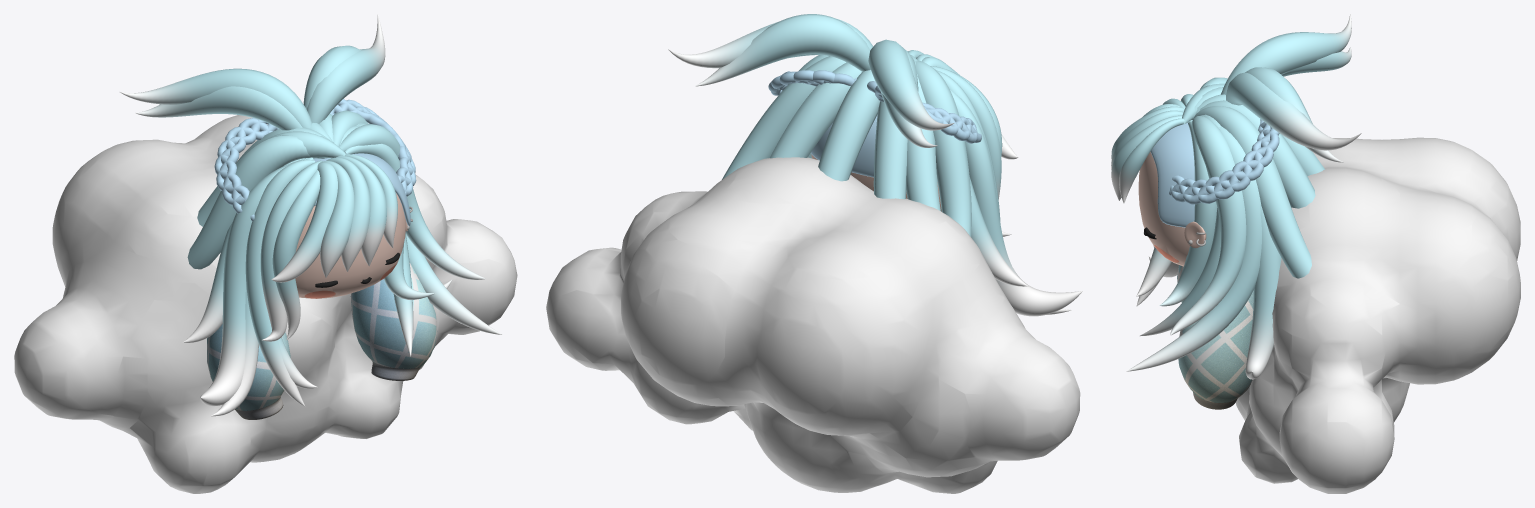
The model's file is kobo tidur di atas awan.fbx.
3 renders of one model, left to right at view 1: azimuth 30°, elevation 25°; view 2: azimuth 150°, elevation 25°; view 3: azimuth 270°, elevation 25°, orthographic. The views are drawn at different scales.
Parts seen in each view (by area): view 1: Mball, Cylinder.001, NurbsPath.020, NurbsPath.022, NurbsPath.018, Vert.001, NurbsPath.027, Cube, NurbsPath.028, NurbsPath.009, NurbsPath.029, NurbsPath.008 (+16 smaller); view 2: Mball, NurbsPath.030, NurbsPath.020, NurbsPath.022, NurbsPath.025, NurbsPath.023, NurbsPath.027, NurbsPath.016, NurbsPath.026, Vert.001, NurbsPath.024, NurbsPath.021 (+5 smaller); view 3: Mball, NurbsPath.015, Cylinder.001, NurbsPath.013, NurbsPath.016, NurbsPath.029, NurbsPath.027, NurbsPath.014, Vert.001, Cube.001, Cube, NurbsPath.010 (+10 smaller).
Boxes of the visible parts, <box> form: Mball: <box>14,115,517,493</box>; Cylinder.001: <box>207,263,437,419</box>; NurbsPath.020: <box>200,157,313,406</box>; NurbsPath.022: <box>187,135,326,269</box>; NurbsPath.018: <box>245,159,314,406</box>; Vert.001: <box>214,99,416,221</box>; NurbsPath.027: <box>119,68,312,128</box>; Cube: <box>295,193,405,298</box>; NurbsPath.028: <box>135,86,302,130</box>; NurbsPath.009: <box>272,169,320,340</box>; NurbsPath.029: <box>307,14,385,123</box>; NurbsPath.008: <box>260,160,322,341</box>; Mball: <box>546,157,1080,493</box>; NurbsPath.030: <box>695,14,870,86</box>; NurbsPath.020: <box>950,90,1082,316</box>; NurbsPath.022: <box>915,60,971,236</box>; NurbsPath.025: <box>818,70,879,181</box>; NurbsPath.023: <box>770,62,861,158</box>; NurbsPath.027: <box>868,39,954,130</box>; NurbsPath.016: <box>722,56,846,179</box>; NurbsPath.026: <box>873,101,907,199</box>; Vert.001: <box>768,70,981,143</box>; NurbsPath.024: <box>906,54,940,211</box>; NurbsPath.021: <box>969,177,1027,286</box>; Mball: <box>1235,137,1520,493</box>; NurbsPath.015: <box>1170,116,1246,335</box>; Cylinder.001: <box>1177,265,1253,409</box>; NurbsPath.013: <box>1126,126,1261,371</box>; NurbsPath.016: <box>1194,106,1311,278</box>; NurbsPath.029: <box>1226,72,1361,150</box>; NurbsPath.027: <box>1221,14,1351,94</box>; NurbsPath.014: <box>1221,126,1281,379</box>; Vert.001: <box>1169,119,1279,204</box>; Cube.001: <box>1150,123,1194,227</box>; Cube: <box>1138,152,1189,266</box>; NurbsPath.010: <box>1159,121,1217,306</box>.
Bounding box in the file's own units: 872 × 702 × 638.
8 materials, 2 textured.
